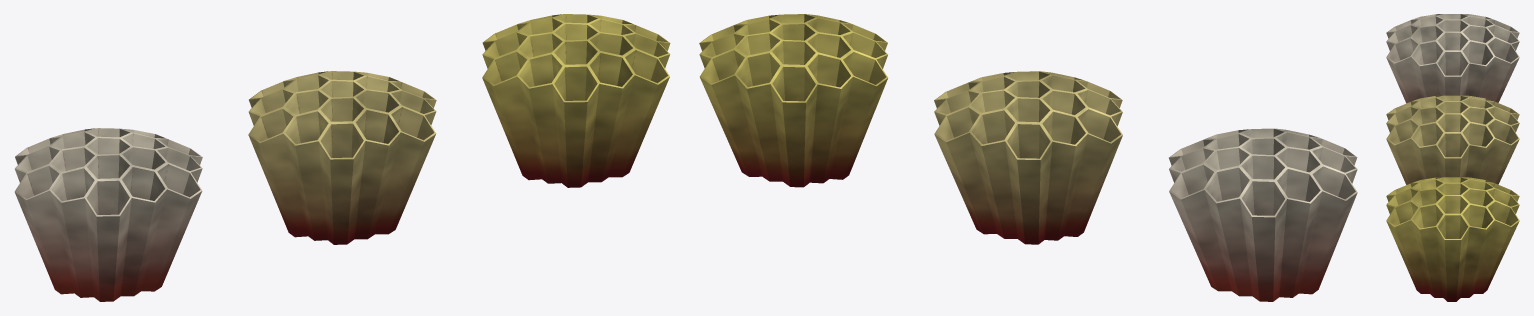
The model's file is WaspSpawners.glb.
3 views of the same model, side by side, from view 1: azimuth 30°, elevation 25°; view 2: azimuth 150°, elevation 25°; view 3: azimuth 270°, elevation 25° (orthographic). The views are drawn at different scales.
Parts seen in each view (by area): view 1: WaspSpawner1, WaspSpawner2, WaspSpawner3; view 2: WaspSpawner3, WaspSpawner2, WaspSpawner1; view 3: WaspSpawner1, WaspSpawner2, WaspSpawner3.
Part boxes in pixels (x1,y1,x2,y2): WaspSpawner1: [482, 14, 670, 187]; WaspSpawner2: [248, 71, 436, 244]; WaspSpawner3: [14, 128, 202, 301]; WaspSpawner3: [1169, 128, 1357, 301]; WaspSpawner2: [934, 71, 1122, 244]; WaspSpawner1: [699, 14, 887, 187]; WaspSpawner1: [1386, 177, 1519, 301]; WaspSpawner2: [1386, 95, 1519, 184]; WaspSpawner3: [1386, 14, 1519, 103].
Bounding box in the file's own units: 5.51 × 1.09 × 1.38.
3 materials, 3 textured.
